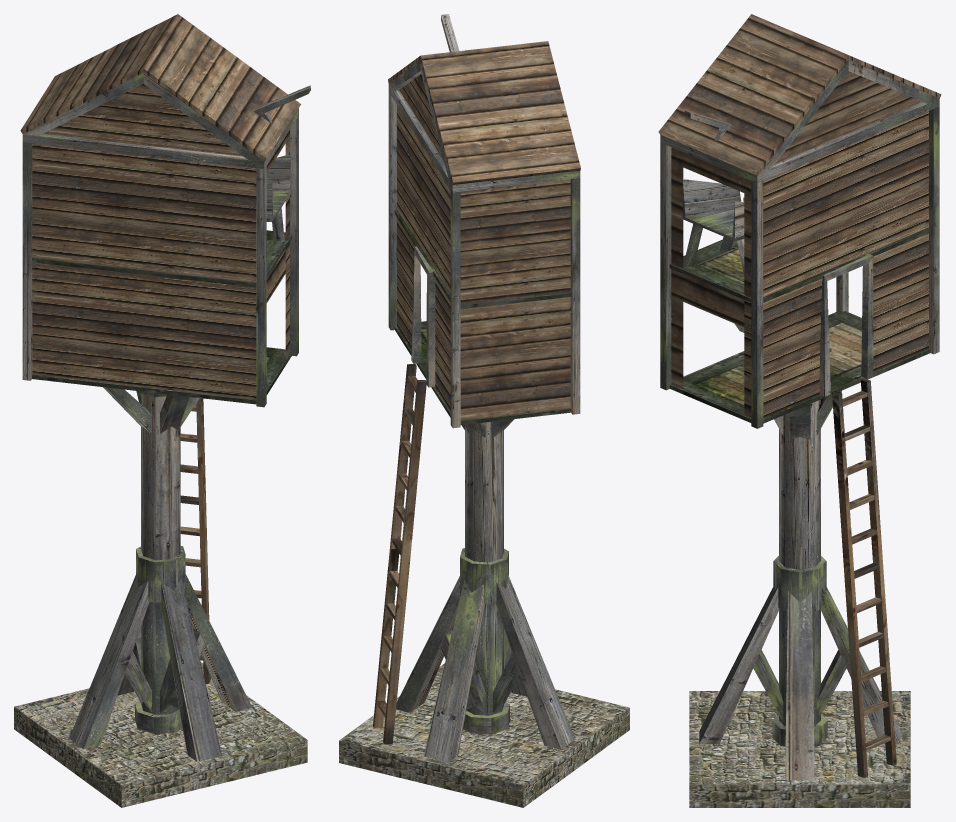
The model's file is building_windmill.glb.
3 renders of one model, left to right at view 1: azimuth 30°, elevation 25°; view 2: azimuth 150°, elevation 25°; view 3: azimuth 270°, elevation 25°, orthographic. The views are drawn at different scales.
Parts seen in each view (by area): view 1: building_windmill; view 2: building_windmill; view 3: building_windmill.
Boxes of the visible parts, x1,y1,x2,y2 form: building_windmill: (14,14,310,807); building_windmill: (339,14,629,807); building_windmill: (658,14,941,807).
Bounding box in the file's own units: 3.84 × 10.86 × 3.84.
9 materials, 9 textured.
